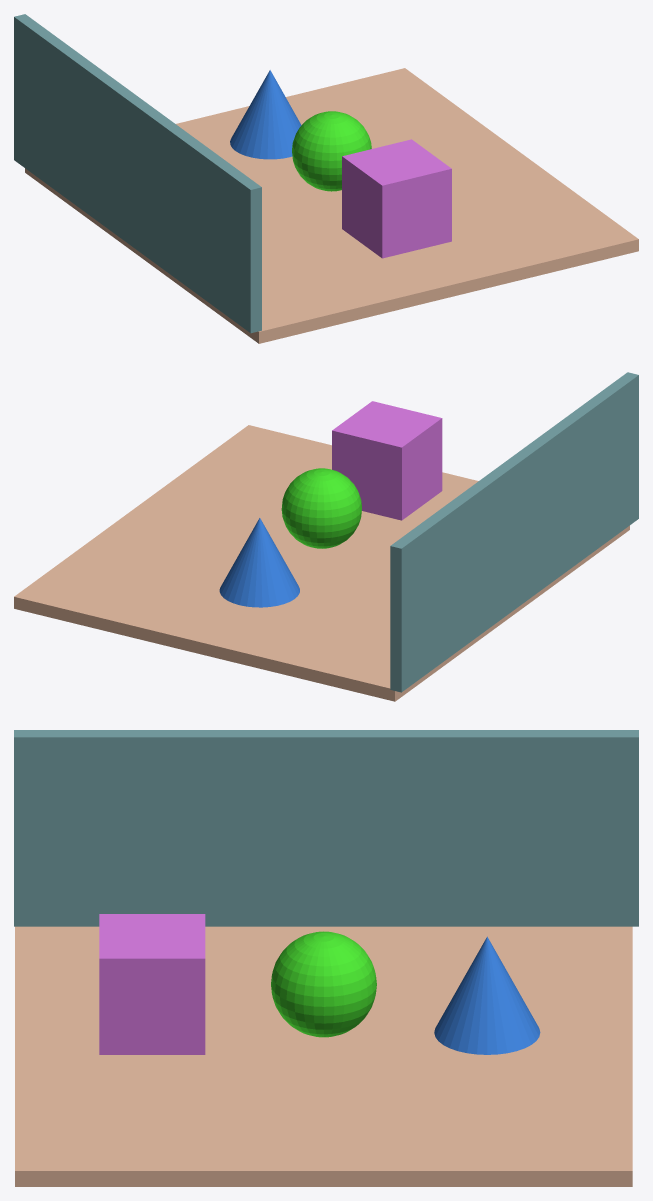
File: mainTestScene.fbx
The picture shows the model from 3 angles, top to bottom: view 1: azimuth 30°, elevation 25°; view 2: azimuth 150°, elevation 25°; view 3: azimuth 270°, elevation 25°; orthographic projection. The views are drawn at different scales.
Visible parts, largest first — view 1: Cube, Cube.002, Cube.001, Sphere, Cone; view 2: Cube, Cube.002, Cube.001, Sphere, Cone; view 3: Cube, Cube.002, Cube.001, Sphere, Cone.
Boxes of the visible parts, box(x1,y1,x2,y2) form: Cube: box(25, 68, 638, 343); Cube.002: box(14, 14, 261, 333); Cube.001: box(342, 139, 451, 258); Sphere: box(292, 111, 371, 191); Cone: box(230, 70, 301, 159); Cube: box(14, 425, 629, 701); Cube.002: box(390, 372, 638, 692); Cube.001: box(332, 401, 442, 520); Sphere: box(281, 468, 361, 548); Cone: box(219, 518, 299, 607); Cube: box(15, 926, 632, 1186); Cube.002: box(14, 730, 638, 926); Cube.001: box(99, 914, 205, 1054); Sphere: box(271, 931, 376, 1037); Cone: box(434, 936, 540, 1054).
Size of the model in its own units: 2234 by 859 by 2356.
